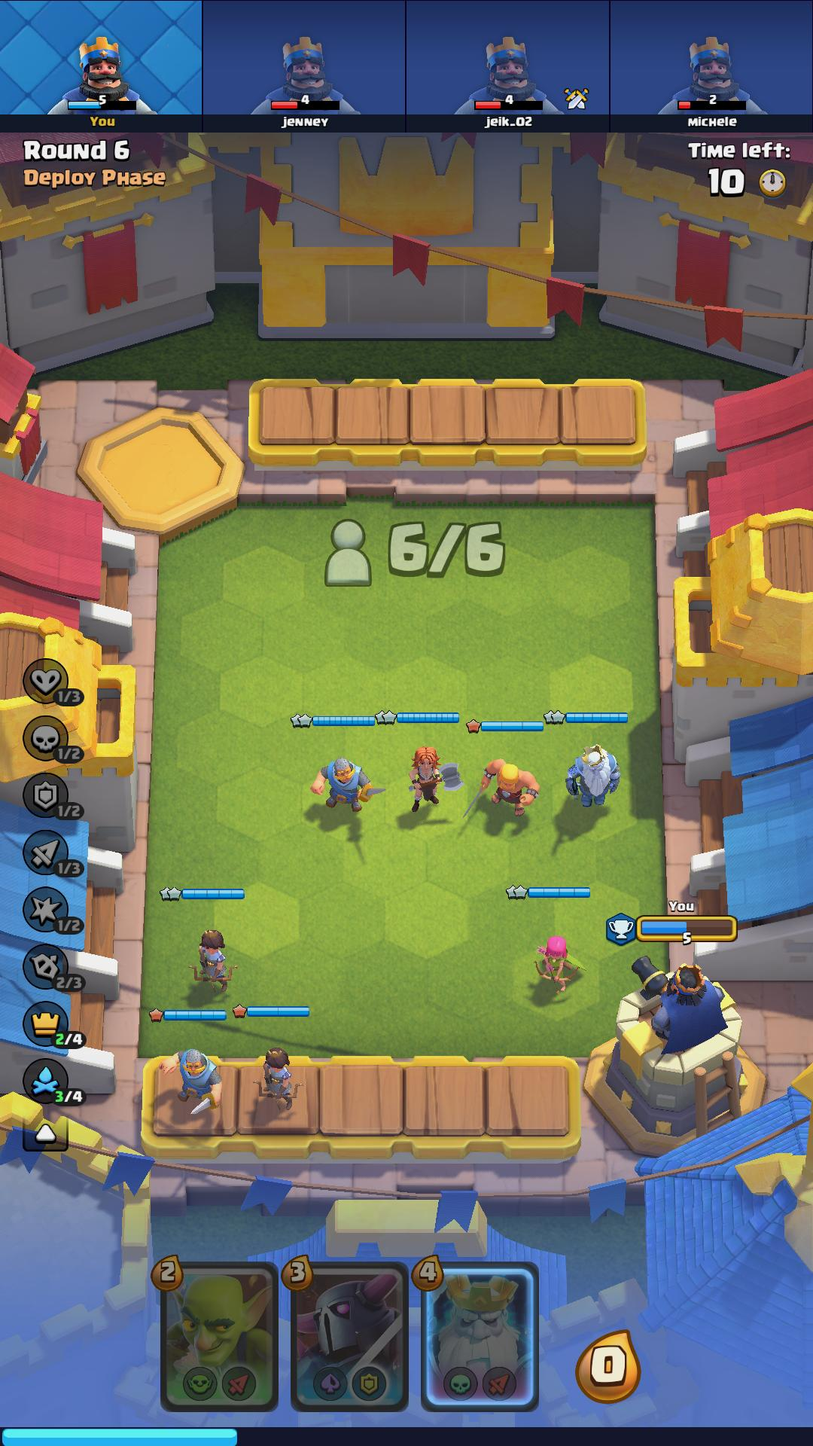archer: (517, 918, 590, 1005)
barbarian: (467, 747, 545, 822)
ghost: (556, 731, 627, 813)
hand-ghost: (427, 1263, 534, 1406)
hand-goblin: (163, 1268, 276, 1410)
hand-pekka: (295, 1265, 406, 1410)
knight: (297, 748, 391, 822), (154, 1039, 226, 1121)
princess: (247, 1032, 301, 1110), (181, 920, 238, 993)
valkyrie: (401, 743, 465, 818)
